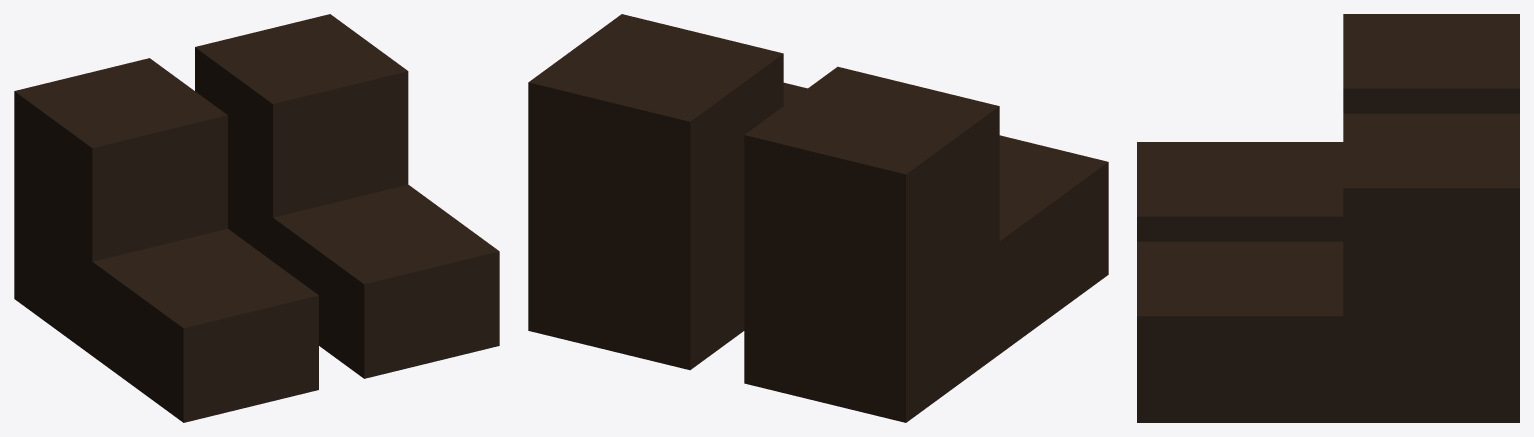
File: leather_boots.glb
3 views of the same model, side by side, from view 1: azimuth 30°, elevation 25°; view 2: azimuth 150°, elevation 25°; view 3: azimuth 270°, elevation 25° (orthographic). The views are drawn at different scales.
Parts seen in each view (by area): view 1: ankle0, ankle1, toe0, toe1; view 2: ankle0, ankle1, toe0; view 3: ankle1, toe1, toe0, ankle0.
Part boxes in pixels (box(x1,y1,x2,y2)): ankle0: box(14, 58, 227, 355); ankle1: box(195, 14, 408, 261); toe0: box(92, 228, 318, 422); toe1: box(249, 184, 499, 378); ankle0: box(744, 66, 999, 422); ankle1: box(528, 14, 783, 370); toe0: box(971, 135, 1108, 374); ankle1: box(1343, 113, 1519, 422); toe1: box(1137, 241, 1396, 422); toe0: box(1137, 142, 1343, 241); ankle0: box(1343, 14, 1519, 113).
Bounding box in the file's own units: 0.35 × 0.22 × 0.325.
